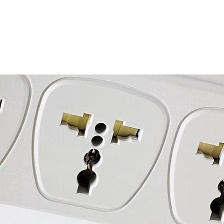three_eye_plug: (0, 72, 224, 223)
